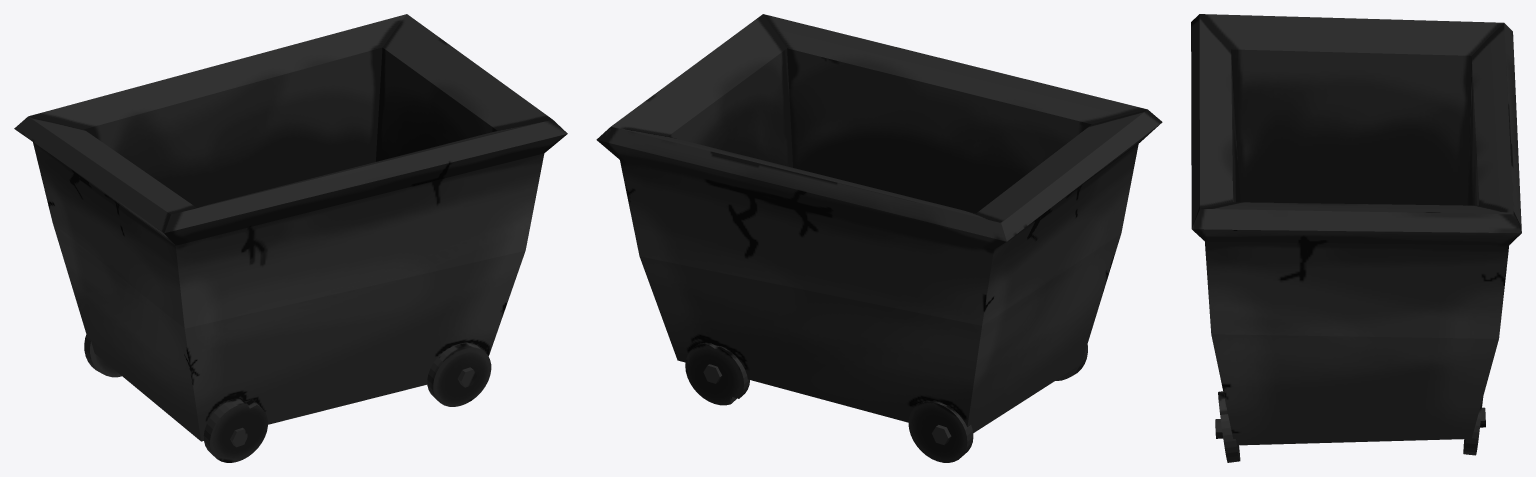
The model's file is Minecart.fbx.
3 views of the same model, side by side, from view 1: azimuth 30°, elevation 25°; view 2: azimuth 150°, elevation 25°; view 3: azimuth 270°, elevation 25° (orthographic). The views are drawn at different scales.
Parts seen in each view (by area): view 1: Cube; view 2: Cube; view 3: Cube.
Boxes of the visible parts, x1,y1,x2,y2 form: Cube: (14,14,567,462); Cube: (596,14,1162,462); Cube: (1191,14,1521,462).
Bounding box in the file's own units: 1.75 × 1.15 × 1.17.
